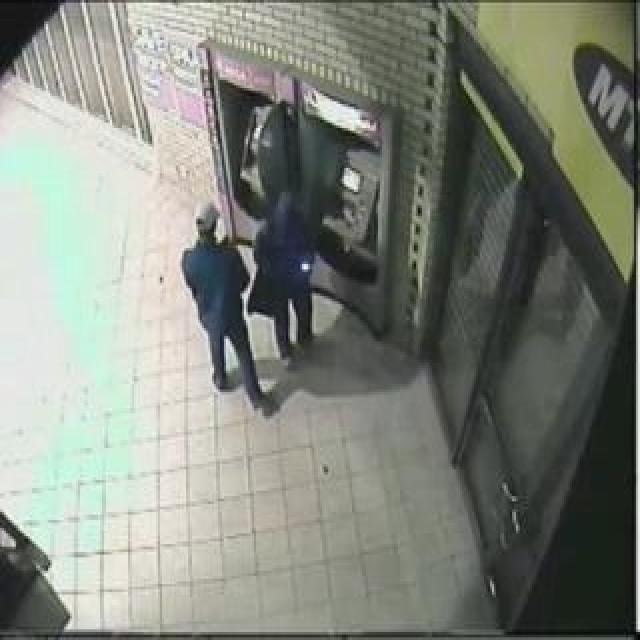thief: (168, 159, 326, 347)
